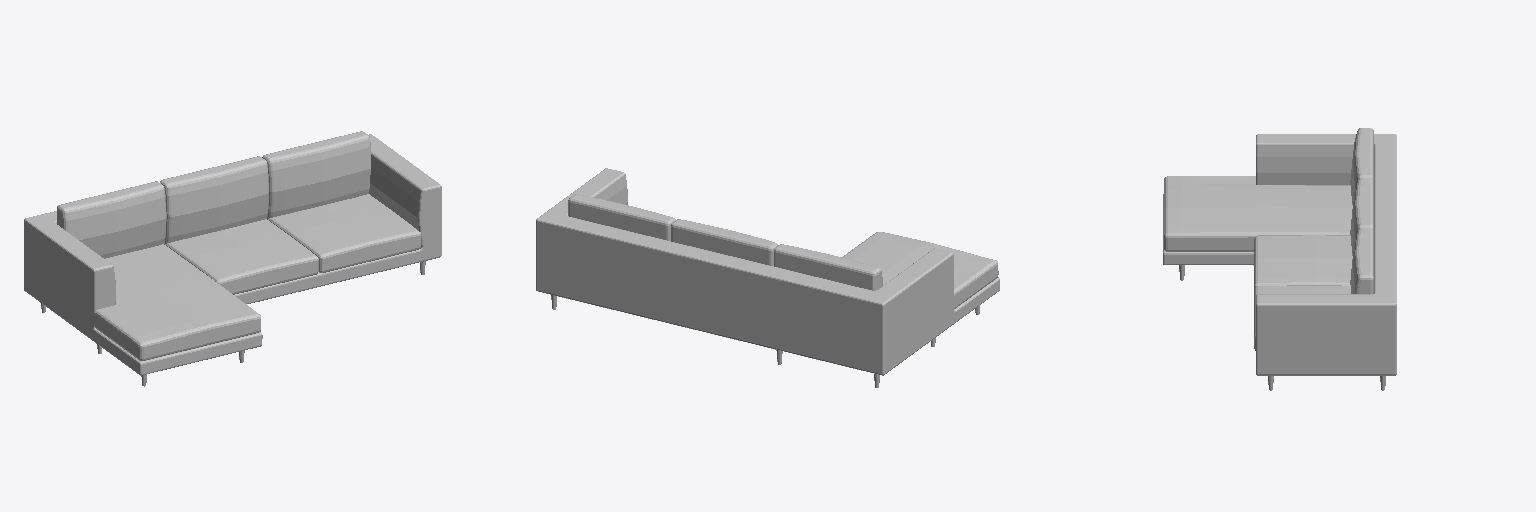
The model's file is Sofa.obj.
3 views of the same model, side by side, from view 1: azimuth 30°, elevation 25°; view 2: azimuth 150°, elevation 25°; view 3: azimuth 270°, elevation 25° (orthographic).
Visible parts, largest first — view 1: Sofa; view 2: Sofa; view 3: Sofa.
Part boxes in pixels (bbox=[...]): Sofa: bbox=[24, 131, 441, 386]; Sofa: bbox=[536, 168, 999, 387]; Sofa: bbox=[1163, 128, 1396, 390].
Bounding box in the file's own units: 2.87 × 0.86 × 1.67.